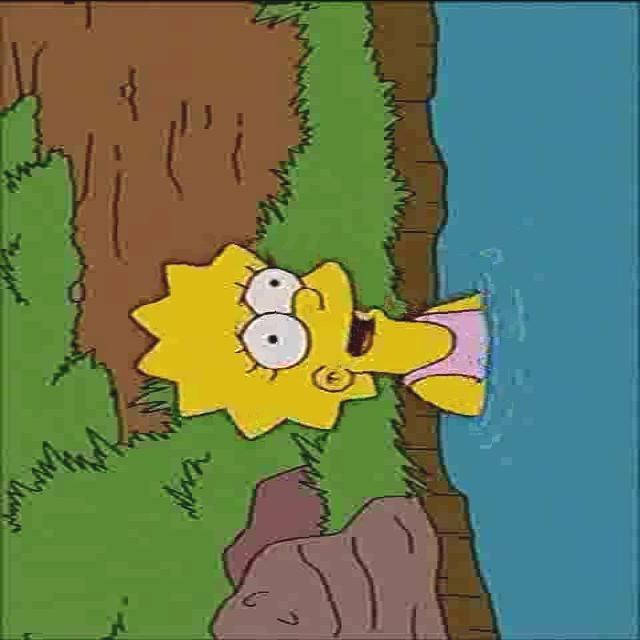Lisa Simpson: (126, 238, 416, 438)
